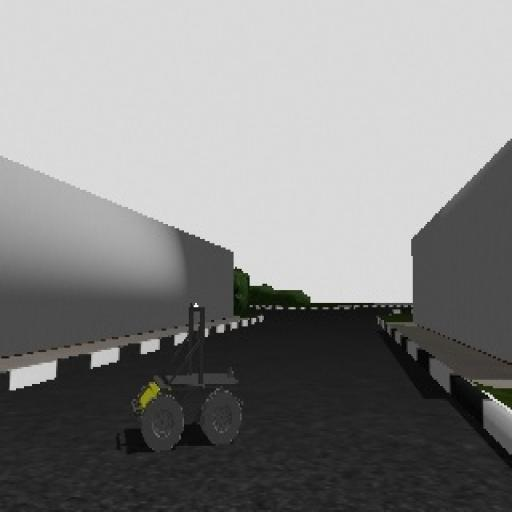huskya200: (121, 287, 261, 460)
